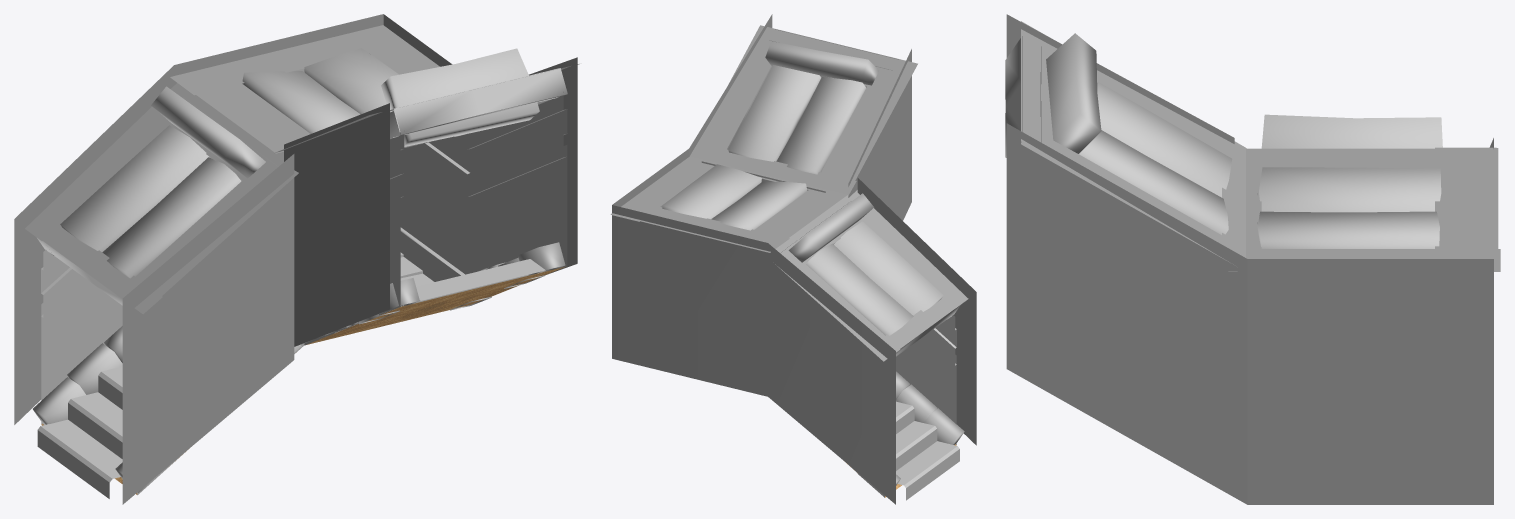
File: Stairs_Turn_Left.fbx
3 views of the same model, side by side, from view 1: azimuth 30°, elevation 25°; view 2: azimuth 150°, elevation 25°; view 3: azimuth 270°, elevation 25° (orthographic). The views are drawn at different scales.
Visible parts, largest first — view 1: Shadow_caster, shadow_caster1, geom_walls3, Shadow_Caster_Roof_4m5, Shadow_caster1, Geom_stairs, Shadow_Caster_Roof_4m, Geom_Stone_Roof_4, Geom_walls, geom_Stone_Roof_2, geom_Stone_Roof_4, geom_walls1 (+10 smaller); view 2: Shadow_caster1, Shadow_Caster_Roof_4m4, Shadow_Caster_Roof_4m, Shadow_Caster_Roof_4m5, Geom_stairs, Geom_Stone_Roof_3, shadow_caster1, Shadow_caster, geom_Stone_Roof_3, geom_Stone_Roof_4, geom_walls, Geom_Stone_Roof_4 (+5 smaller); view 3: Shadow_caster1, shadow_caster, Shadow_Caster_Roof_4m, Shadow_Caster_Roof_4m4, geom_Stone_Roof_1, Geom_Stone_Roof_2, geom_Stone_Roof_3, geom_Stone_Roof_5, Geom_Stone_Roof_3, geom_Stone_Roof_2, shadow_caster1, Geom_Stone_Roof_Border1.
Boxes of the visible parts, box(x1,y1,x2,y2) form: Shadow_caster: box(122, 154, 294, 504); shadow_caster1: box(284, 103, 389, 346); geom_walls3: box(467, 92, 567, 273); Shadow_Caster_Roof_4m5: box(25, 83, 298, 314); Shadow_caster1: box(14, 14, 452, 424); Geom_stairs: box(33, 326, 301, 498); Shadow_Caster_Roof_4m: box(170, 25, 439, 153); Geom_Stone_Roof_4: box(60, 125, 209, 252); Geom_walls: box(41, 156, 209, 424); geom_Stone_Roof_2: box(381, 48, 539, 146); geom_Stone_Roof_4: box(102, 157, 241, 278); geom_walls1: box(400, 149, 470, 274); Shadow_caster1: box(612, 149, 895, 504); Shadow_Caster_Roof_4m4: box(690, 25, 917, 195); Shadow_Caster_Roof_4m: box(610, 156, 847, 252); Shadow_Caster_Roof_4m5: box(775, 190, 968, 361); Geom_stairs: box(857, 371, 964, 500); Geom_Stone_Roof_3: box(728, 65, 821, 161); shadow_caster1: box(848, 49, 911, 220); Shadow_caster: box(857, 178, 976, 445); geom_Stone_Roof_3: box(776, 77, 865, 174); geom_Stone_Roof_4: box(834, 221, 943, 315); geom_walls: box(833, 243, 956, 444); Geom_Stone_Roof_4: box(806, 243, 913, 335); Shadow_caster1: box(1247, 138, 1493, 504); shadow_caster: box(1006, 123, 1247, 504); Shadow_Caster_Roof_4m: box(1228, 147, 1500, 271); Shadow_Caster_Roof_4m4: box(1021, 21, 1246, 264); geom_Stone_Roof_1: box(1259, 167, 1441, 212); Geom_Stone_Roof_2: box(1257, 211, 1439, 248); geom_Stone_Roof_3: box(1097, 81, 1232, 197); geom_Stone_Roof_5: box(1261, 114, 1442, 148); Geom_Stone_Roof_3: box(1079, 130, 1228, 234); geom_Stone_Roof_2: box(1046, 33, 1101, 153); shadow_caster1: box(1006, 14, 1234, 143); Geom_Stone_Roof_Border1: box(1005, 36, 1041, 157).
Size of the model in its own units: 900 by 994 by 864.
